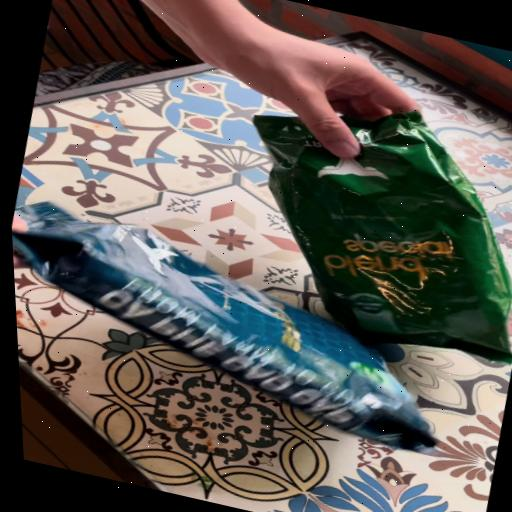cafe_hat: (12, 202, 436, 453)
cafe_xay: (254, 111, 512, 363)
